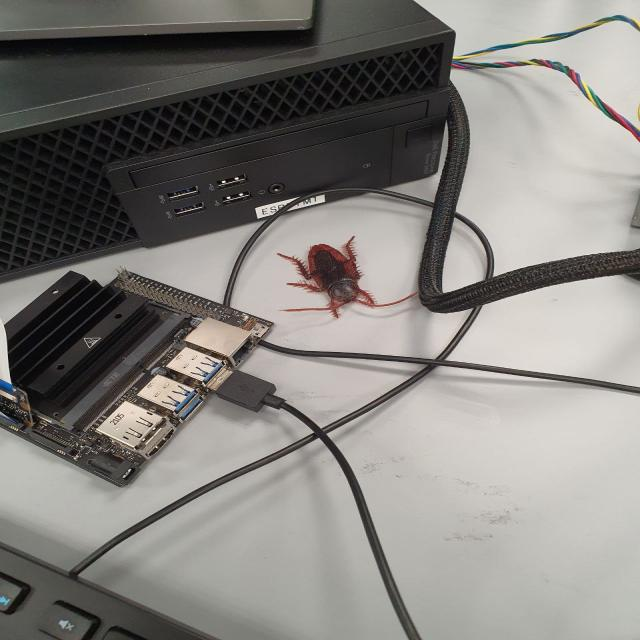Cockroach: (269, 236, 417, 326)
